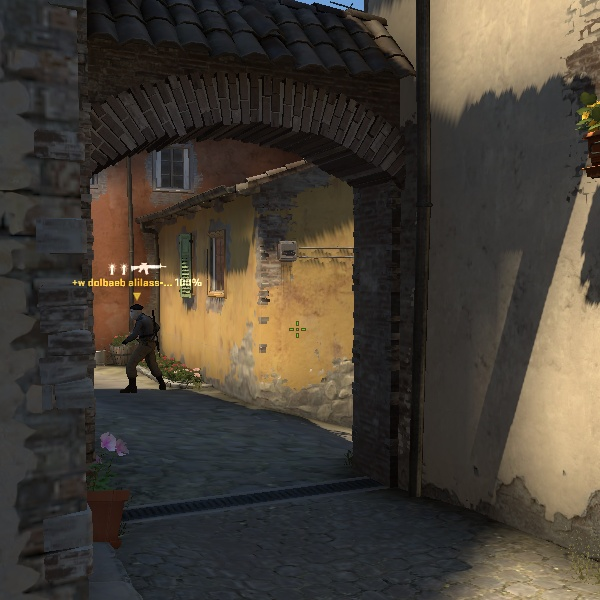t_body: (122, 304, 166, 390)
t_head: (130, 304, 143, 322)
